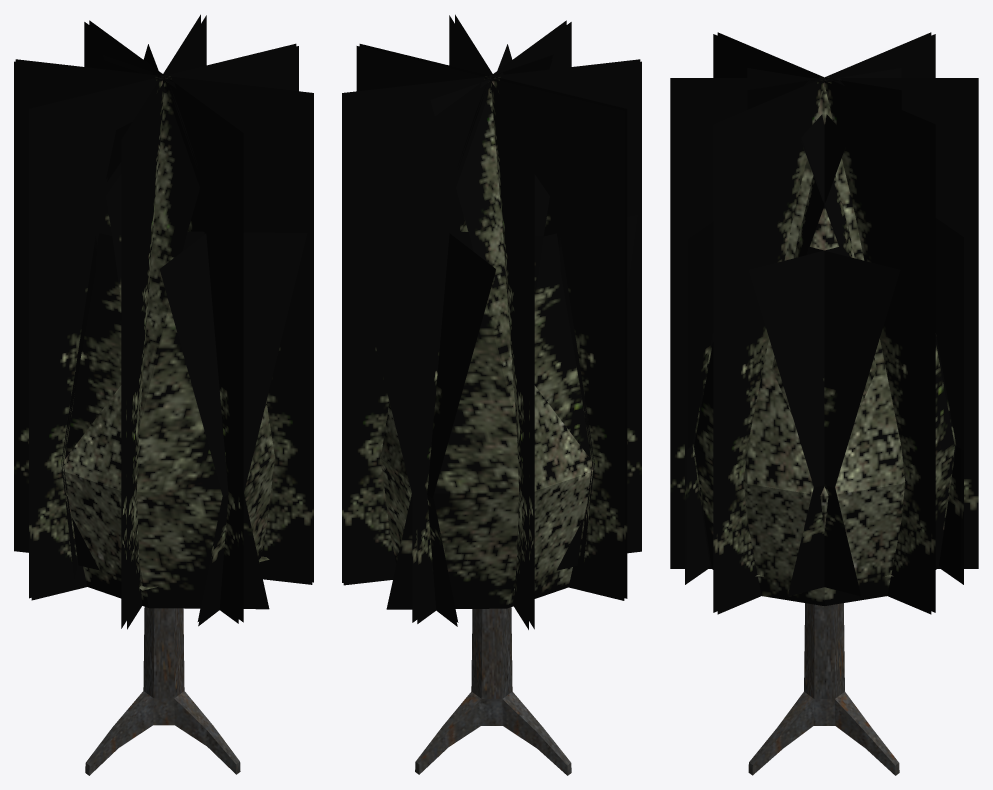
File: tree_lod1.gltf
3 renders of one model, left to right at view 1: azimuth 30°, elevation 25°; view 2: azimuth 150°, elevation 25°; view 3: azimuth 270°, elevation 25°, orthographic.
Parts seen in each view (by area): view 1: tree08_top, tree08; view 2: tree08_top, tree08; view 3: tree08_top, tree08.
Part boxes in pixels (bbox=[...]): tree08_top: bbox=[14, 14, 313, 629]; tree08: bbox=[85, 607, 240, 775]; tree08_top: bbox=[342, 14, 641, 629]; tree08: bbox=[415, 607, 571, 775]; tree08_top: bbox=[670, 32, 978, 614]; tree08: bbox=[748, 603, 899, 775].
Bounding box in the file's own units: 2.1 × 5.09 × 2.1.
Materials: 1 (1 with a texture image).
